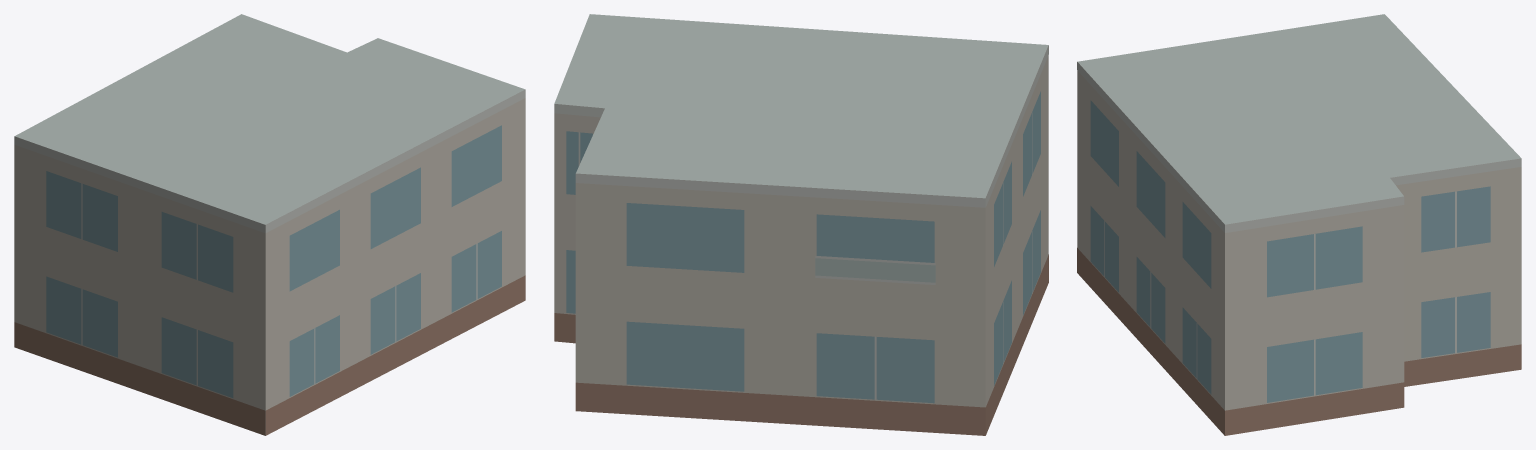
File: survey-upis-33011697.glb
3 views of the same model, side by side, from view 1: azimuth 30°, elevation 25°; view 2: azimuth 150°, elevation 25°; view 3: azimuth 270°, elevation 25° (orthographic). The views are drawn at different scales.
Parts seen in each view (by area): view 1: survey-upis-33011697.tmp; view 2: survey-upis-33011697.tmp; view 3: survey-upis-33011697.tmp.
Boxes of the visible parts, bbox=[...] form: survey-upis-33011697.tmp: bbox=[14, 14, 525, 435]; survey-upis-33011697.tmp: bbox=[554, 14, 1048, 435]; survey-upis-33011697.tmp: bbox=[1077, 14, 1521, 435].
Size of the model in its own units: 13.06 by 6.1 by 11.65.
